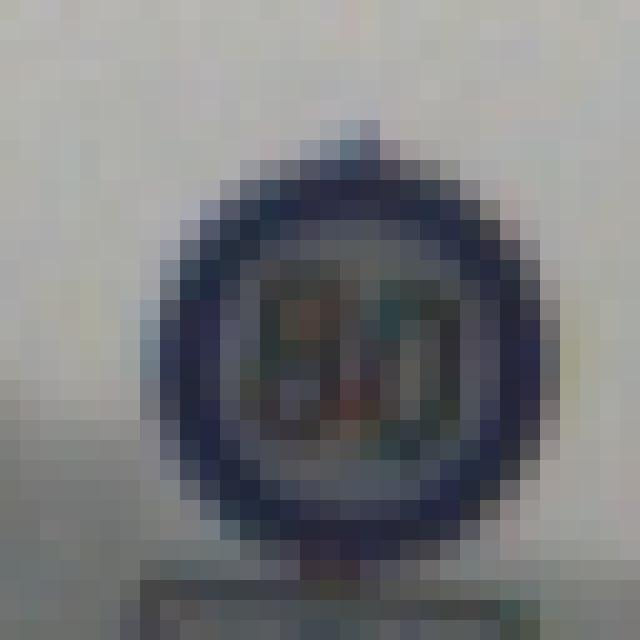SPEED-LIMIT-80: (160, 147, 548, 543)
